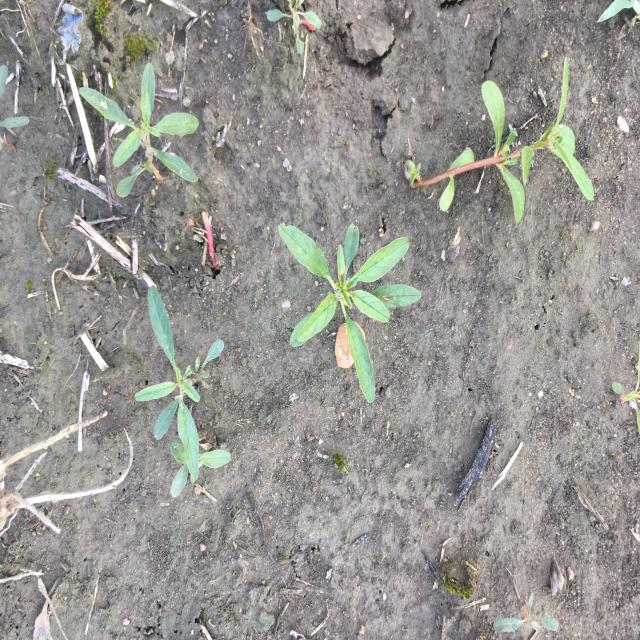Purslane: (408, 54, 596, 225)
Waterhemp: (277, 221, 423, 405), (132, 284, 232, 501), (77, 62, 202, 198), (490, 587, 561, 638)
